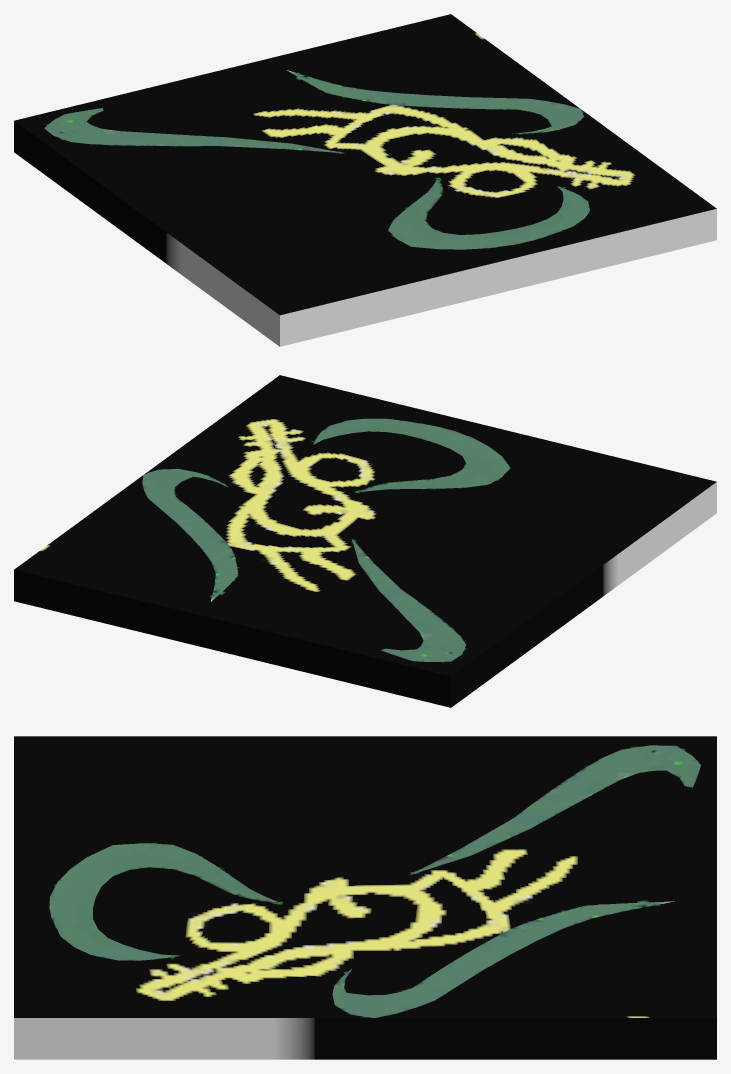
Rendered from CharSkyKid_Prop_MoonlightMural_Fly02.glb.
3 views of the same model, one above another, from view 1: azimuth 30°, elevation 25°; view 2: azimuth 150°, elevation 25°; view 3: azimuth 270°, elevation 25° (orthographic). The views are drawn at different scales.
Parts seen in each view (by area): view 1: CharSkyKid_Prop_MoonlightMural_Fly02; view 2: CharSkyKid_Prop_MoonlightMural_Fly02; view 3: CharSkyKid_Prop_MoonlightMural_Fly02.
Part boxes in pixels (<box>): CharSkyKid_Prop_MoonlightMural_Fly02: <box>14,14,716,346</box>; CharSkyKid_Prop_MoonlightMural_Fly02: <box>14,375,716,707</box>; CharSkyKid_Prop_MoonlightMural_Fly02: <box>14,736,716,1059</box>.
Size of the model in its own units: 0.9489 by 0.0654 by 1.
Materials: 1 (1 with a texture image).
